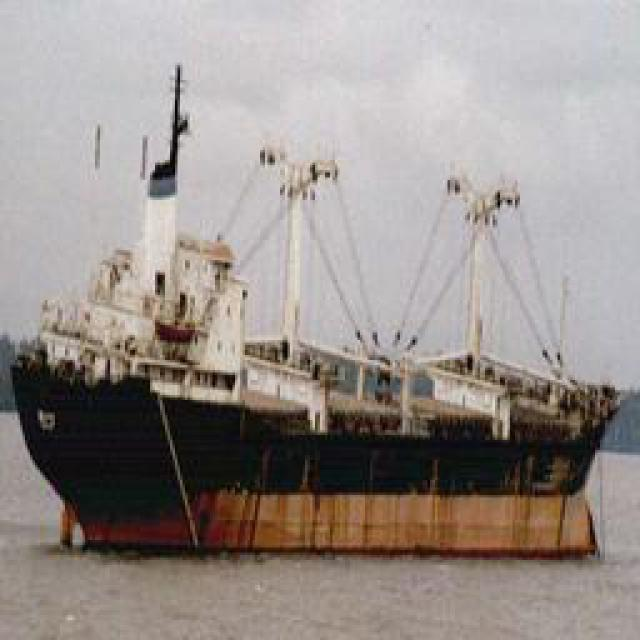Ship: (16, 102, 624, 535)
